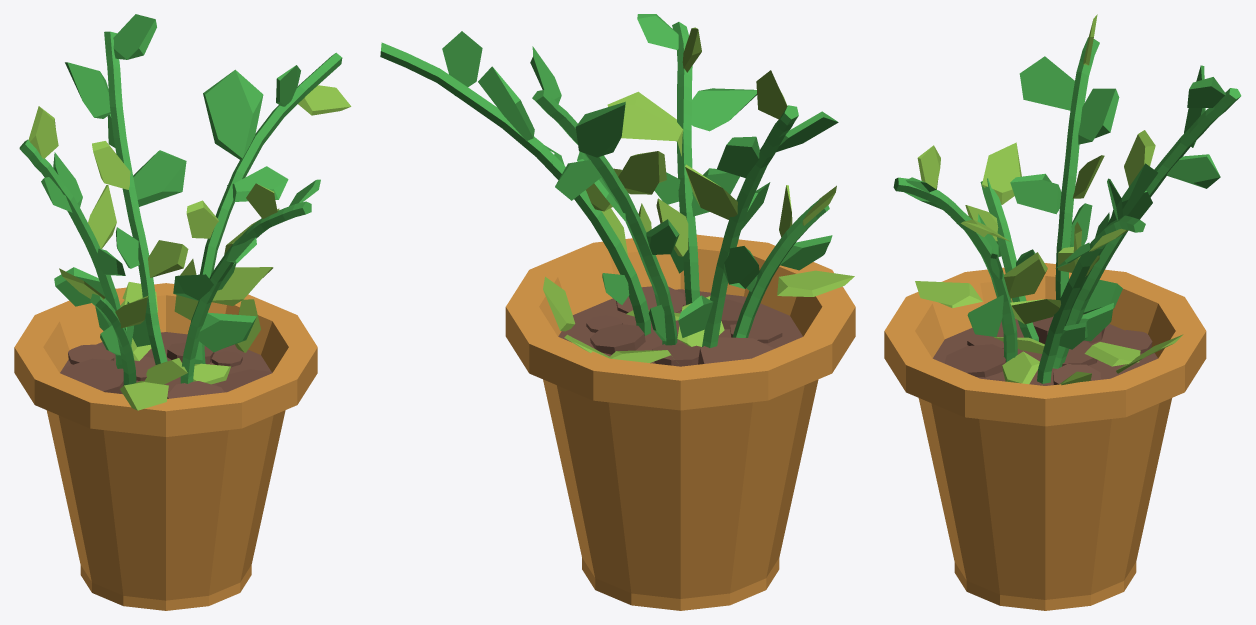
Rendered from Plant - Flower Pot.glb.
3 renders of one model, left to right at view 1: azimuth 30°, elevation 25°; view 2: azimuth 150°, elevation 25°; view 3: azimuth 270°, elevation 25°, orthographic. The views are drawn at different scales.
Visible parts, largest first — view 1: group1430211780; view 2: group1430211780; view 3: group1430211780.
Part boxes in pixels (bbox=[...]): group1430211780: bbox=[14, 14, 351, 610]; group1430211780: bbox=[380, 14, 855, 610]; group1430211780: bbox=[884, 14, 1241, 610].
Bounding box in the file's own units: 0.2525 × 0.3393 × 0.2107.
